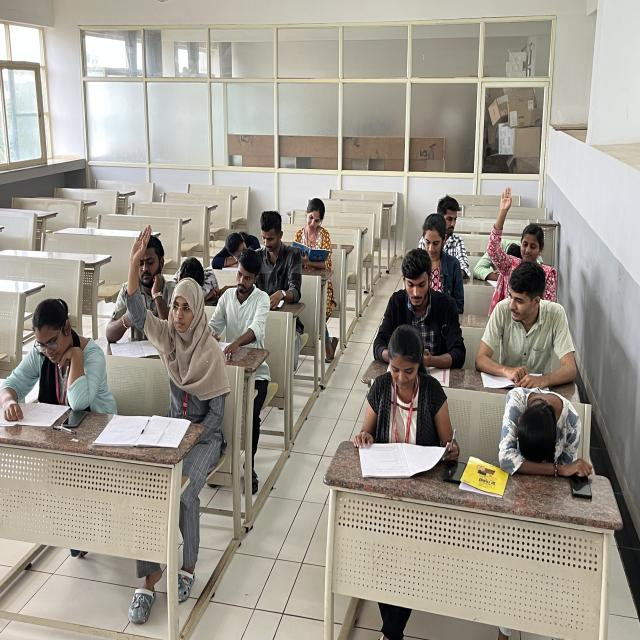Hand Rising: (113, 225, 231, 392), (484, 185, 563, 286)
Reading: (351, 331, 461, 468), (3, 290, 112, 415), (286, 198, 338, 270)
Sleeping: (209, 226, 262, 272)
Using Phone: (373, 247, 466, 367)
